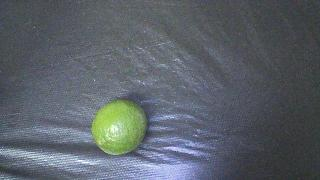LOCAL: (91, 100, 147, 155)
